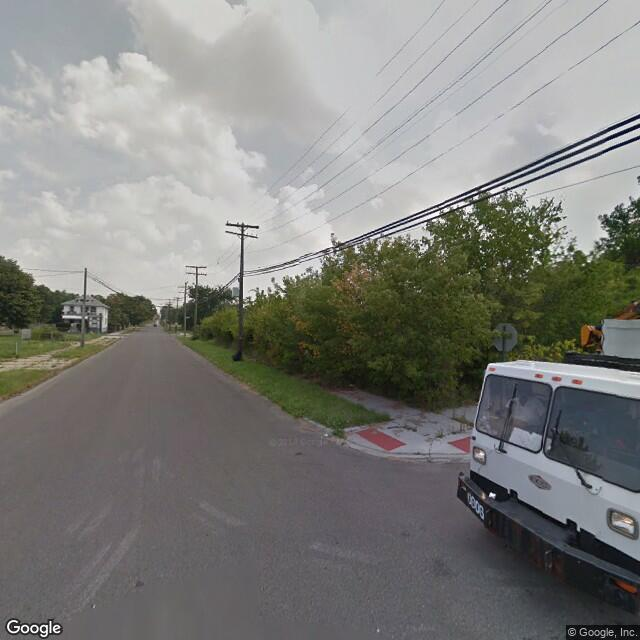litter: (323, 430, 330, 438)
